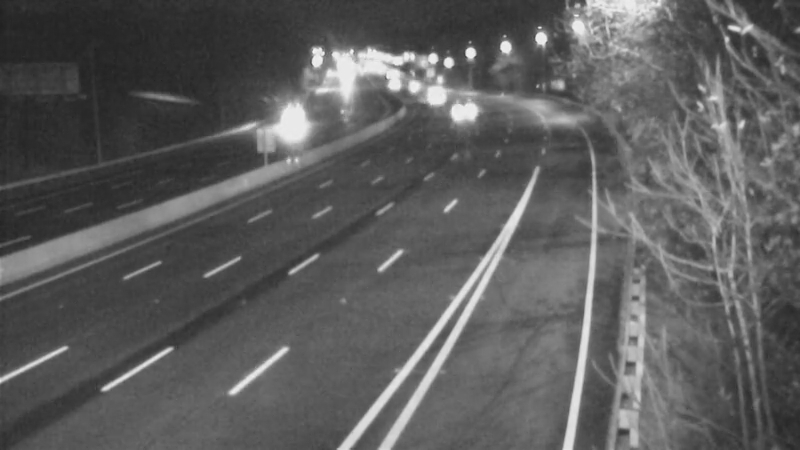vehicle: (405, 74, 455, 124), (434, 89, 484, 139), (264, 94, 314, 144)
